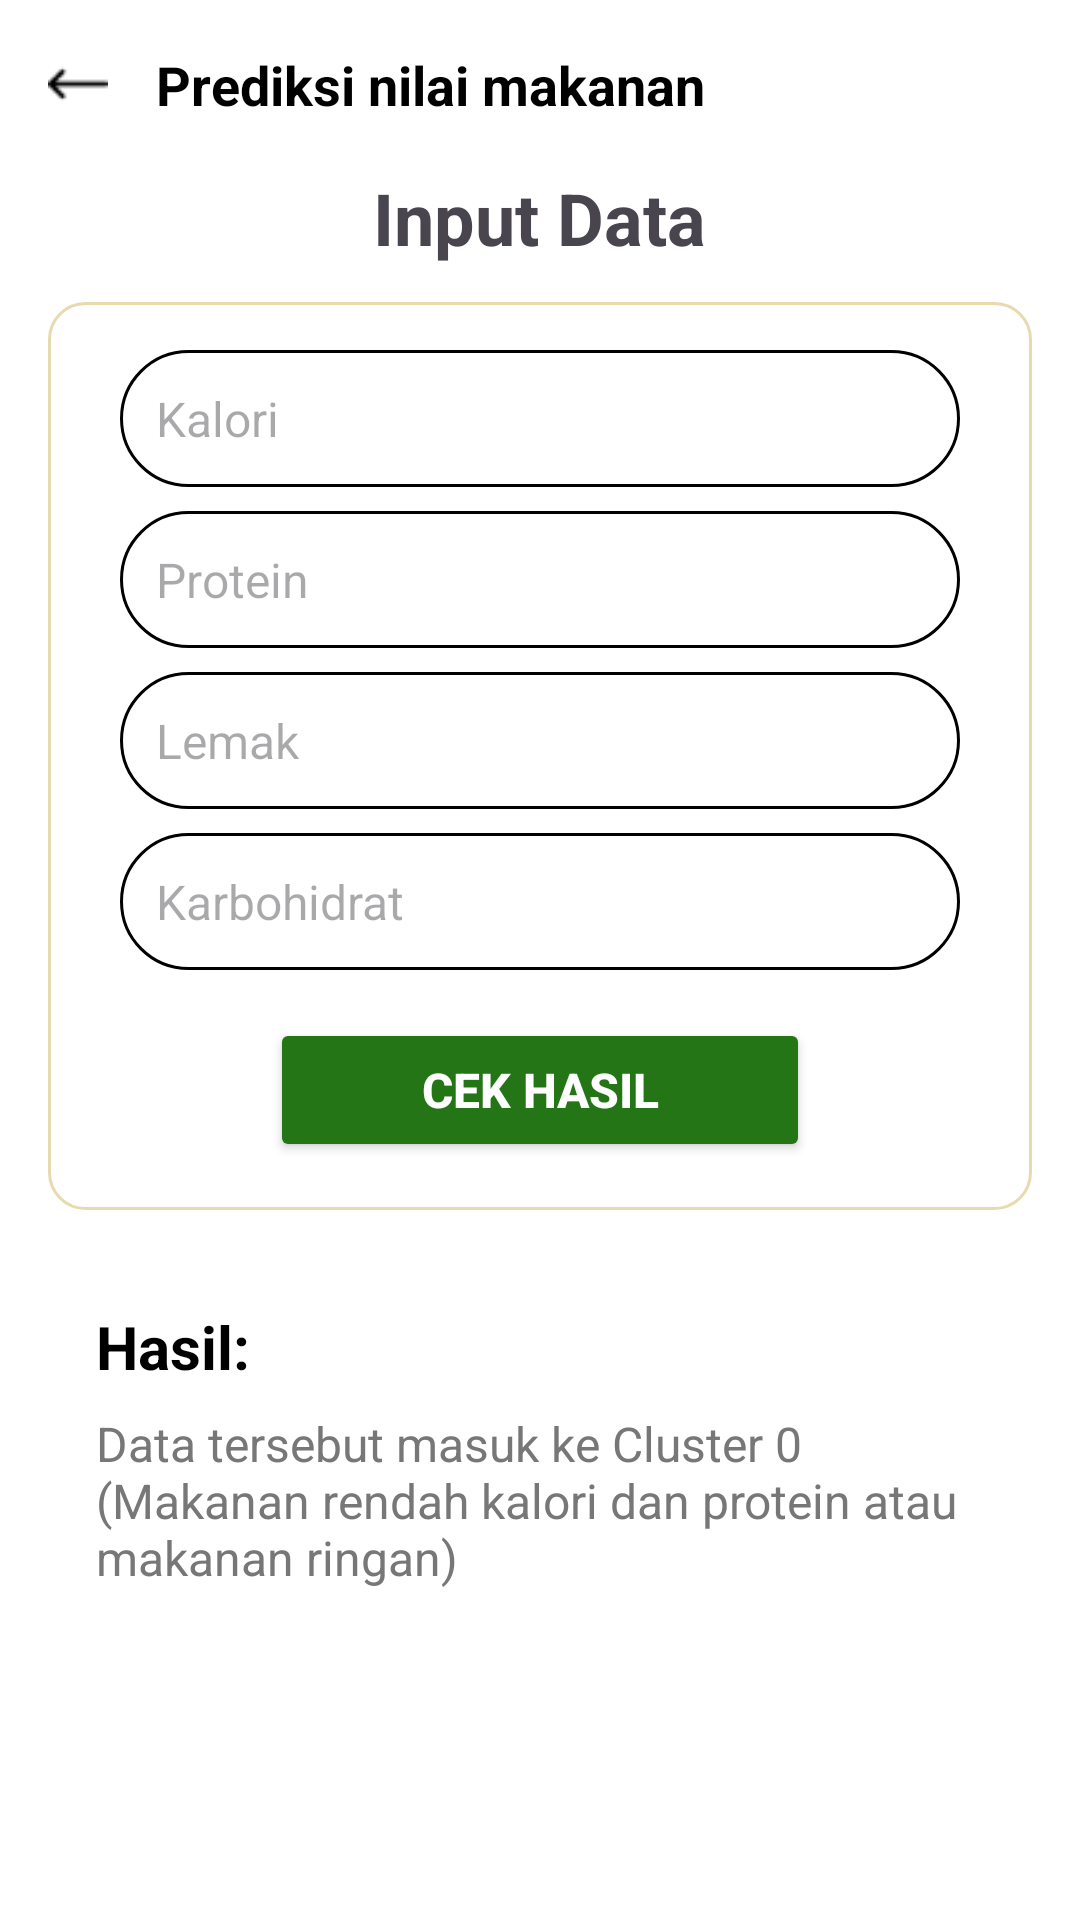

Named icons in this screenshot (1080 x 1920) and their bounding boxes, (x1, y1, x2, y2):
Back Button: (48, 68, 108, 100)
